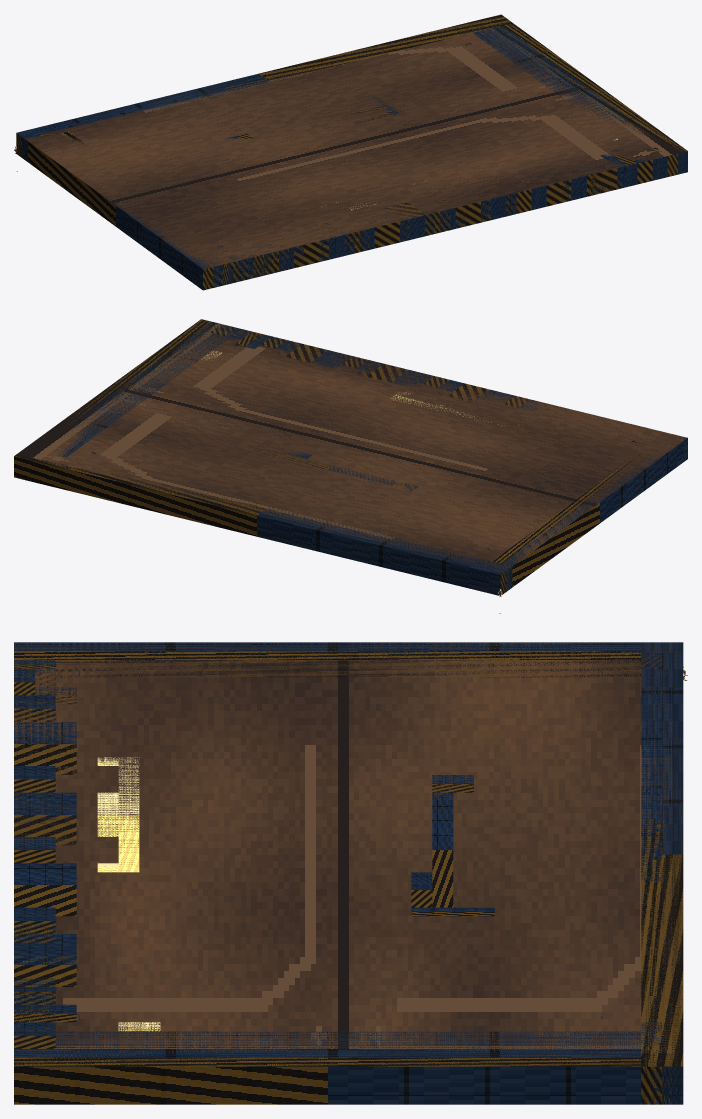
The model's file is level.gltf.
3 renders of one model, top to bottom at view 1: azimuth 30°, elevation 25°; view 2: azimuth 150°, elevation 25°; view 3: azimuth 270°, elevation 25°, orthographic. The views are drawn at different scales.
Visible parts, largest first — view 1: PROP_SECTOR_0, PROP_SECTOR_1, PROP_SECTOR_2, PROP_SECTOR_3, PROP_SECTOR_5; view 2: PROP_SECTOR_0, PROP_SECTOR_1, PROP_SECTOR_2, PROP_SECTOR_3, PROP_SECTOR_5; view 3: PROP_SECTOR_0, PROP_SECTOR_1, PROP_SECTOR_3, PROP_SECTOR_2, PROP_SECTOR_5, PROP_SECTOR_6.
Boxes of the visible parts, x1,y1,x2,y2 form: PROP_SECTOR_0: [16, 14, 687, 290]; PROP_SECTOR_1: [223, 24, 687, 284]; PROP_SECTOR_2: [16, 16, 635, 277]; PROP_SECTOR_3: [61, 95, 402, 289]; PROP_SECTOR_5: [23, 19, 621, 192]; PROP_SECTOR_0: [14, 319, 687, 595]; PROP_SECTOR_1: [58, 319, 455, 457]; PROP_SECTOR_2: [30, 330, 512, 593]; PROP_SECTOR_3: [247, 428, 677, 564]; PROP_SECTOR_5: [142, 330, 508, 568]; PROP_SECTOR_0: [14, 642, 683, 1104]; PROP_SECTOR_1: [14, 660, 641, 1066]; PROP_SECTOR_3: [14, 642, 641, 916]; PROP_SECTOR_2: [14, 642, 683, 1104]; PROP_SECTOR_5: [14, 642, 662, 1066]; PROP_SECTOR_6: [97, 757, 602, 1031].
Bounding box in the file's own units: 289 × 22.9 × 193.
Materials: 2 (2 with a texture image).
